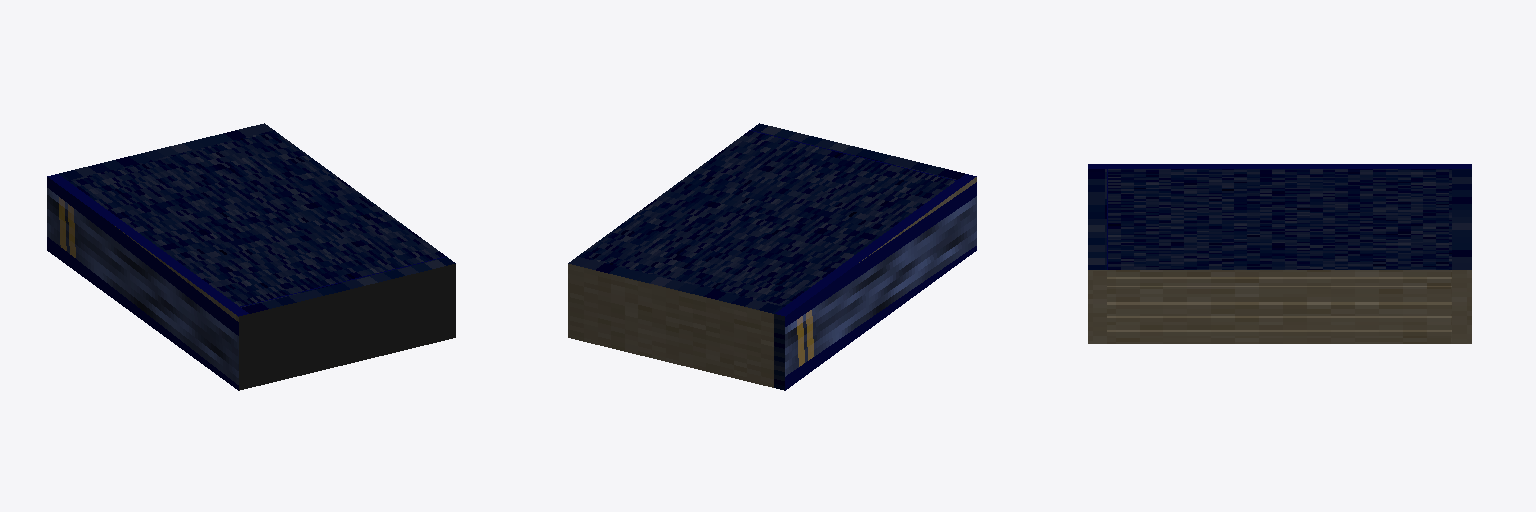
3 renders of one model, left to right at view 1: azimuth 30°, elevation 25°; view 2: azimuth 150°, elevation 25°; view 3: azimuth 270°, elevation 25°, orthographic.
Visible parts, largest first — view 1: Cube; view 2: Cube; view 3: Cube.
Boxes of the visible parts, box(x1,y1,x2,y2) form: Cube: box(47, 123, 455, 390); Cube: box(568, 123, 976, 390); Cube: box(1088, 164, 1471, 343).
Bounding box in the file's own units: 0.9017 × 0.2825 × 1.32.
Materials: 5 (1 with a texture image).